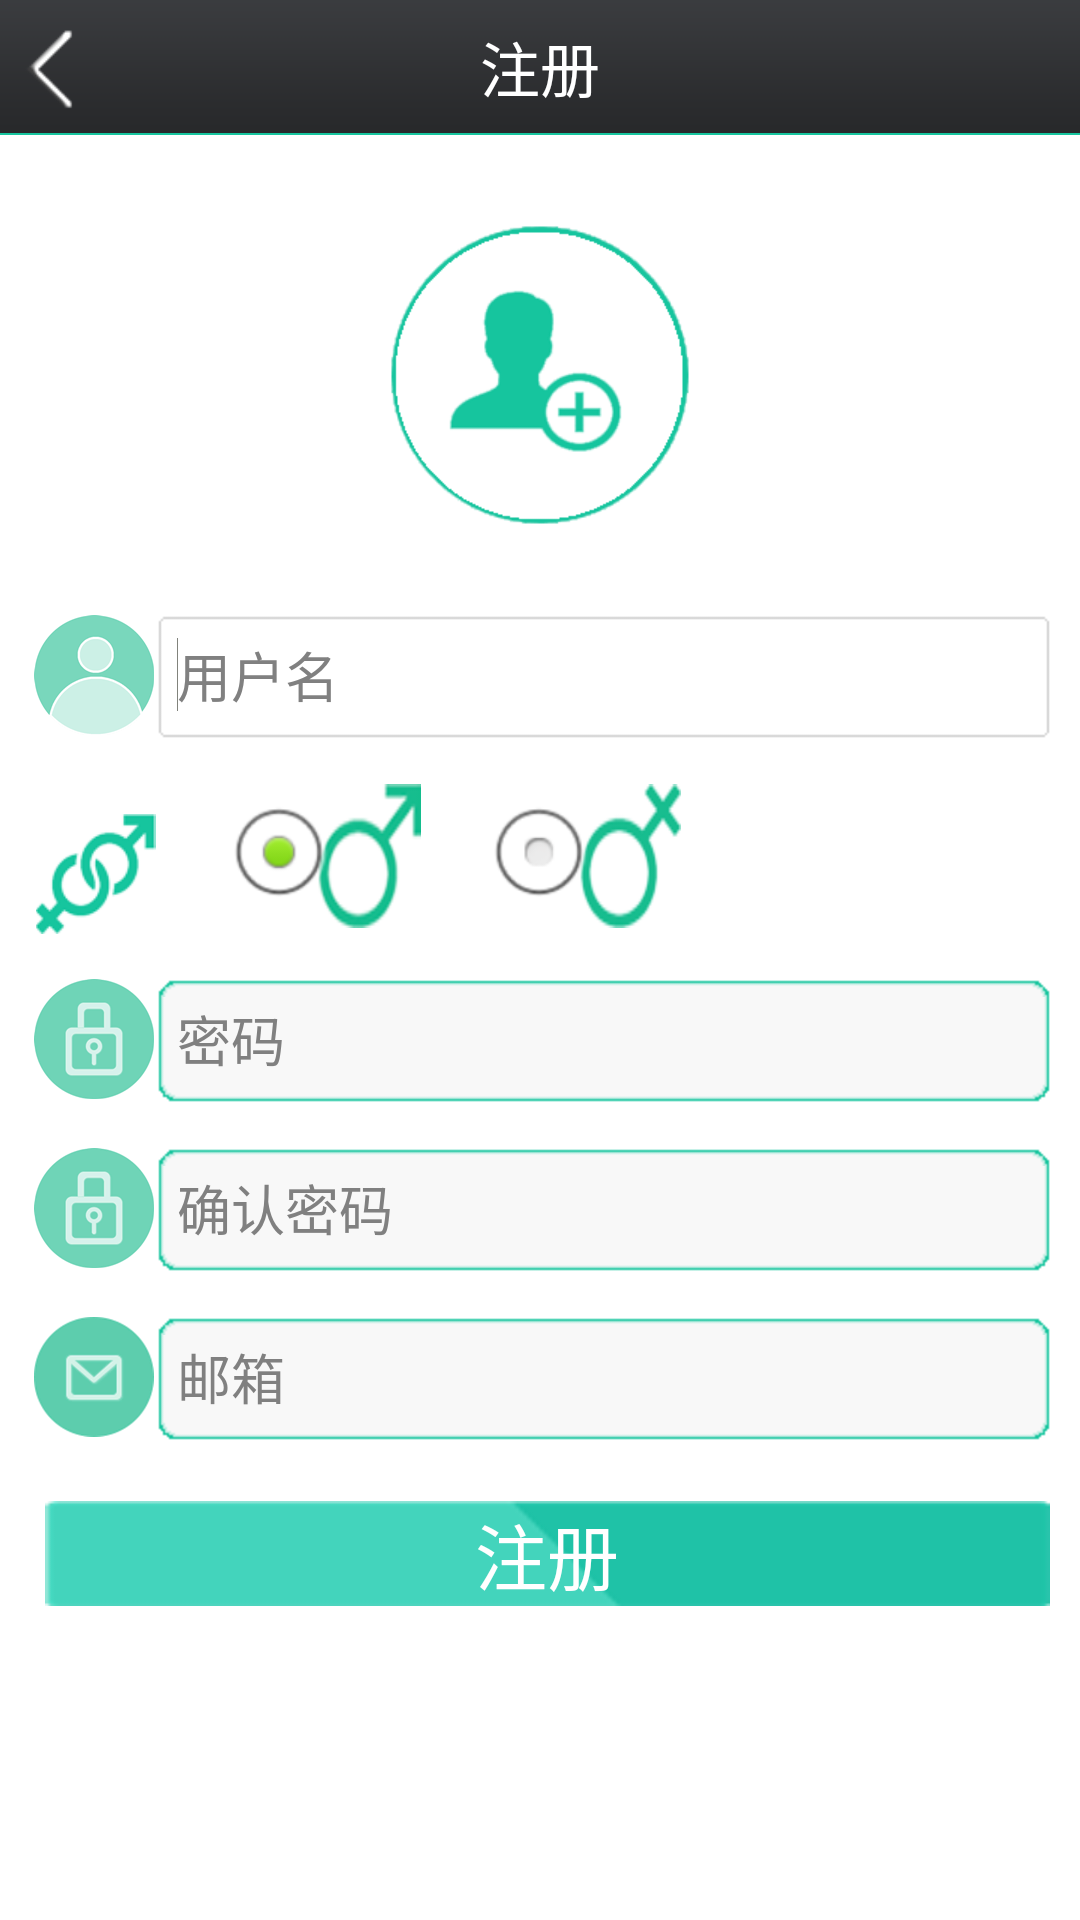

Icons on this 1080w x 1920h Android screen, each with its box as (x1, y1, x2, y2):
email: (34, 1317, 154, 1437)
female radio: (496, 784, 681, 928)
gender: (36, 814, 156, 934)
male radio: (236, 784, 421, 928)
user: (34, 615, 154, 734)
